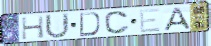A: (162, 6, 193, 32)
C: (104, 10, 132, 35)
D: (79, 11, 102, 38)
E: (138, 7, 162, 34)
H: (20, 14, 46, 41)
U: (44, 12, 72, 40)
